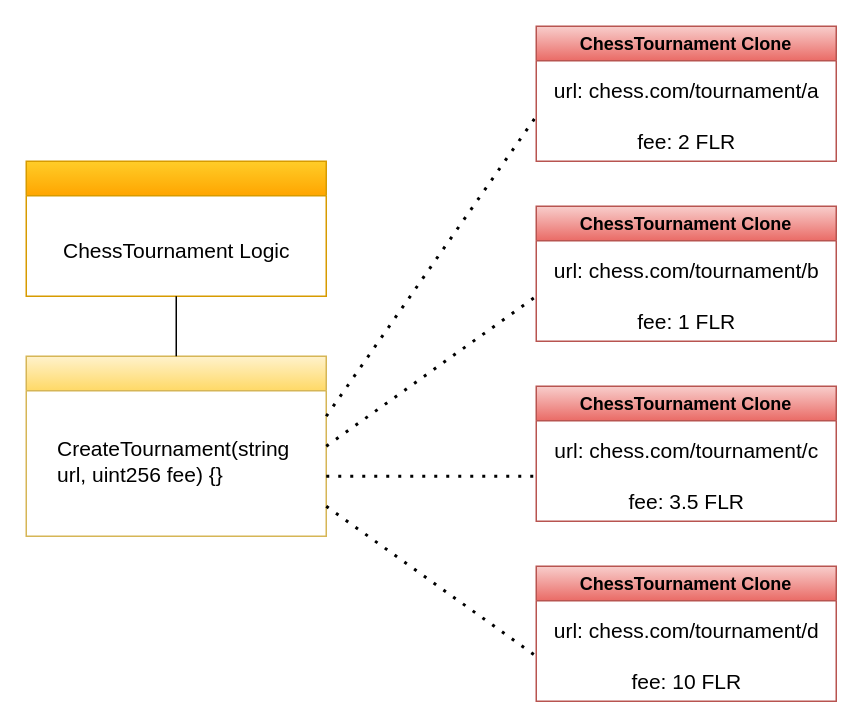
Image size: 863x728. Some labels were removed from this diagram. Each missing label, with the box of its shape:
ChessTournamentFactory.sol: (25, 355, 326, 536)
ChessTournamentImpl.sol: (25, 160, 326, 296)
